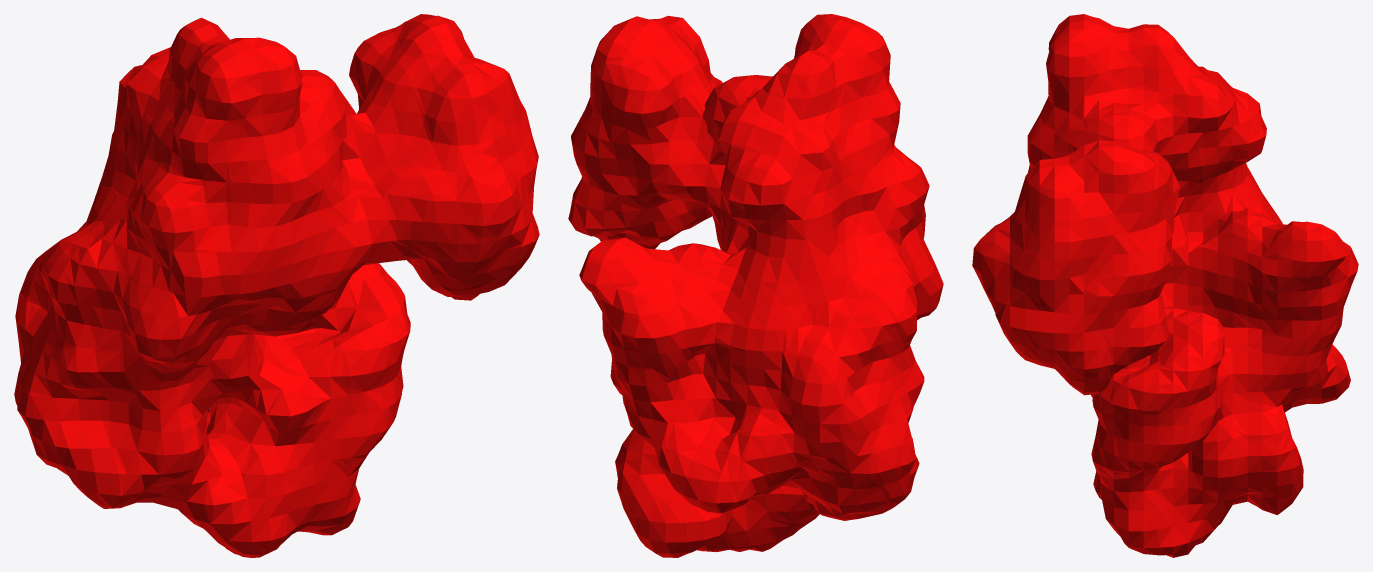
Rendered from leuS_coarse.dae.
3 renders of one model, left to right at view 1: azimuth 30°, elevation 25°; view 2: azimuth 150°, elevation 25°; view 3: azimuth 270°, elevation 25°, orthographic. The views are drawn at different scales.
Visible parts, largest first — view 1: leuS; view 2: leuS; view 3: leuS.
Part boxes in pixels (x1,y1,x2,y2): leuS: (14, 14, 539, 557); leuS: (568, 14, 943, 557); leuS: (972, 14, 1358, 557).
Size of the model in its own units: 89.21 by 113 by 80.65.
